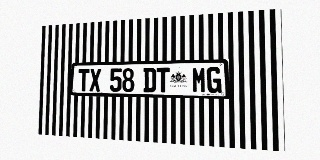5: (110, 68, 122, 92)
8: (122, 68, 134, 92)
D: (143, 68, 156, 92)
G: (207, 67, 222, 93)
M: (192, 67, 206, 93)
T: (156, 67, 170, 92), (78, 69, 89, 91)
X: (89, 68, 101, 92)
